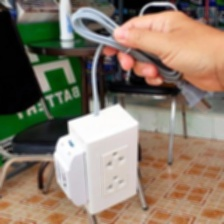three_eye_plug: (51, 99, 142, 217)
